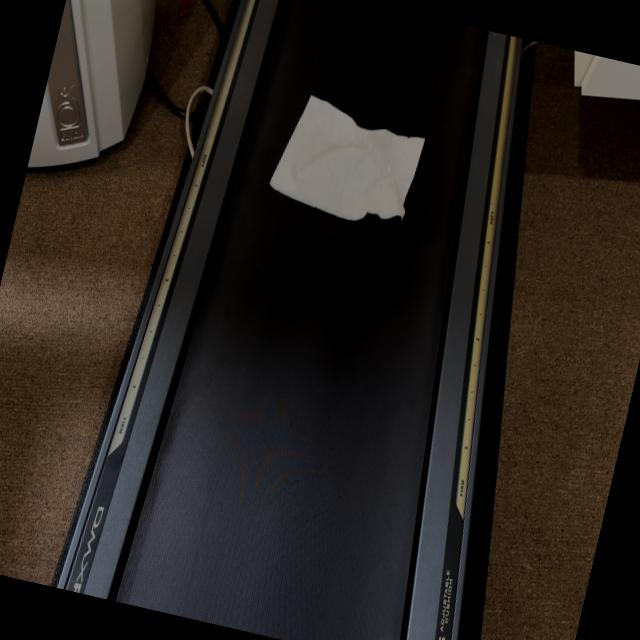Recycle: (263, 84, 432, 238)
